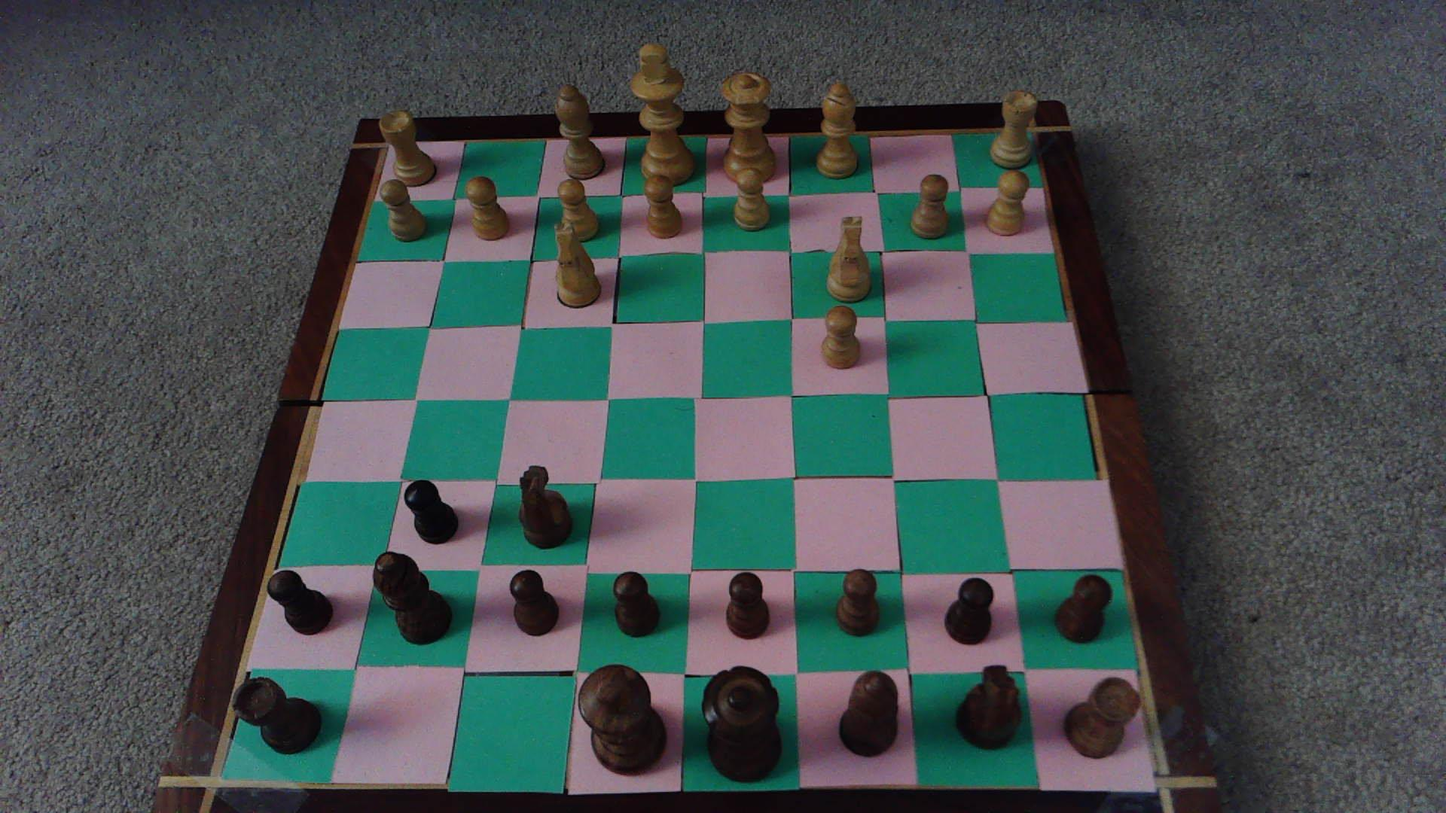dark_piece: (578, 665, 666, 774), (702, 666, 782, 782), (373, 551, 452, 643), (234, 677, 320, 754), (1064, 678, 1139, 758), (956, 665, 1020, 749), (839, 671, 898, 757), (520, 465, 572, 548), (267, 569, 332, 634), (1055, 574, 1110, 642), (403, 480, 457, 542), (944, 578, 993, 644), (510, 570, 558, 635), (612, 572, 659, 637), (726, 572, 769, 638), (837, 569, 879, 635)
white_piece: (631, 44, 694, 186), (722, 73, 775, 184), (556, 85, 605, 179), (552, 223, 602, 309), (380, 111, 435, 186), (817, 82, 857, 178), (827, 216, 871, 302), (990, 90, 1037, 169), (380, 178, 426, 240), (465, 176, 508, 240), (557, 180, 599, 243), (988, 171, 1028, 236), (644, 175, 683, 239), (911, 174, 948, 239), (733, 168, 771, 231), (822, 305, 859, 368)
